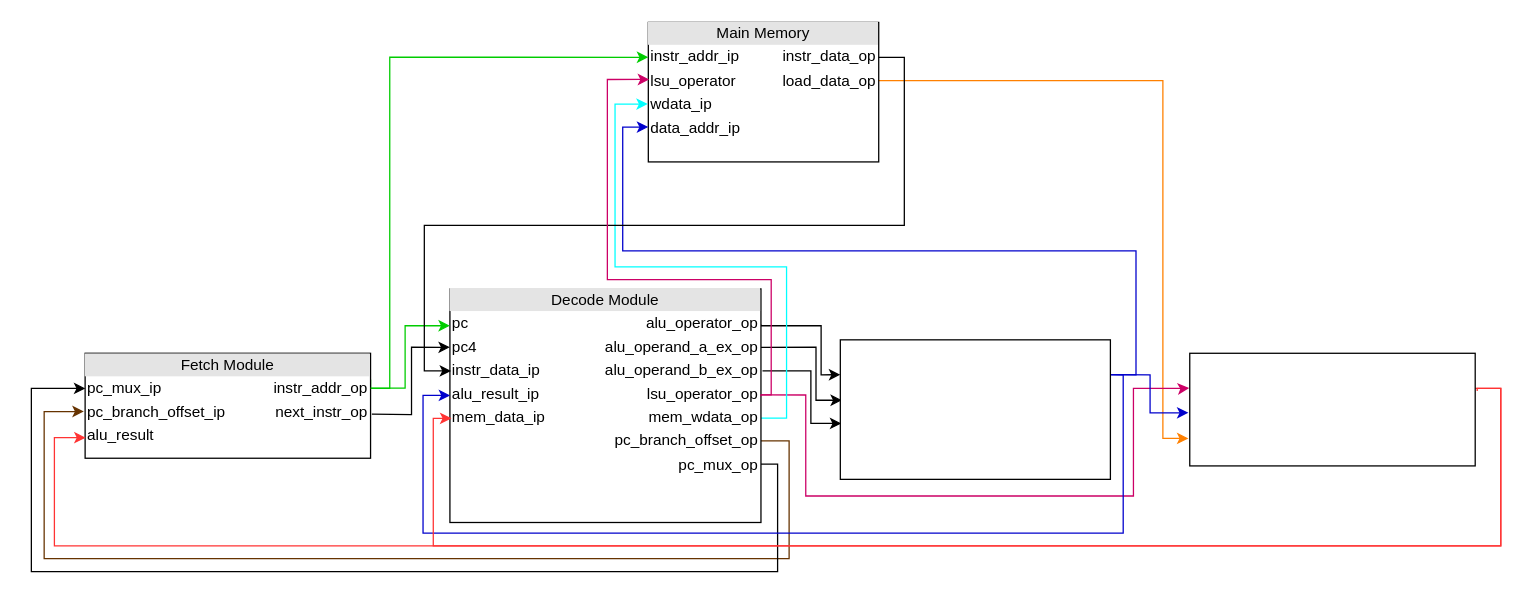
Some shapes in this 1533 by 604 pixel diagram are drawn without their labels. The centre of each missing label's shape, as x and y in pixels:
"ALU Module alu_operator_ip alu_result_op alu_operand_a_ip alu_operand_b_ip" belongs at point 974,409.
"Load Store Unit lsu_operator_ip load_mem_data_op mem_addr_ip mem_data_ip" belongs at point 1331,409.
